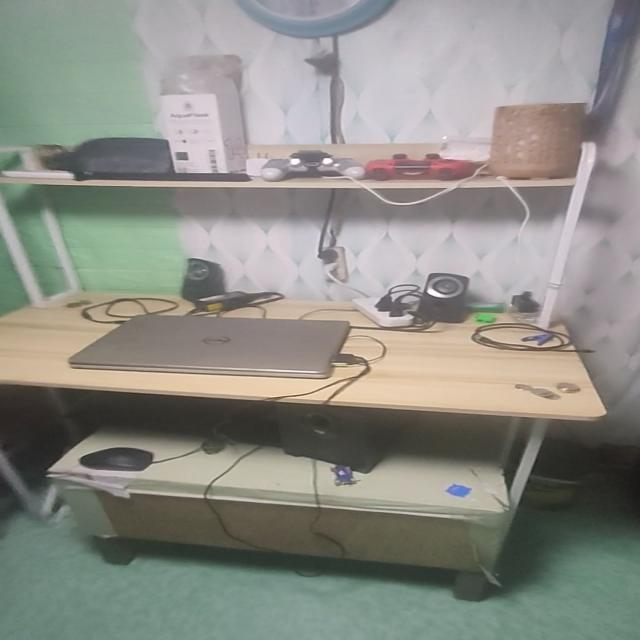table: (0, 283, 620, 604)
